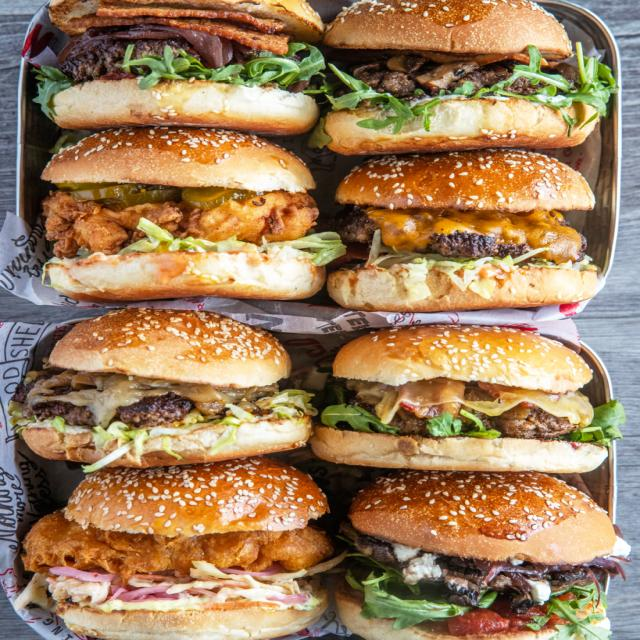burger: (320, 0, 611, 332), (11, 462, 339, 639), (31, 126, 318, 300), (21, 308, 315, 462), (349, 476, 628, 638), (326, 329, 621, 477), (330, 3, 603, 153), (341, 152, 597, 306), (47, 1, 320, 130)
